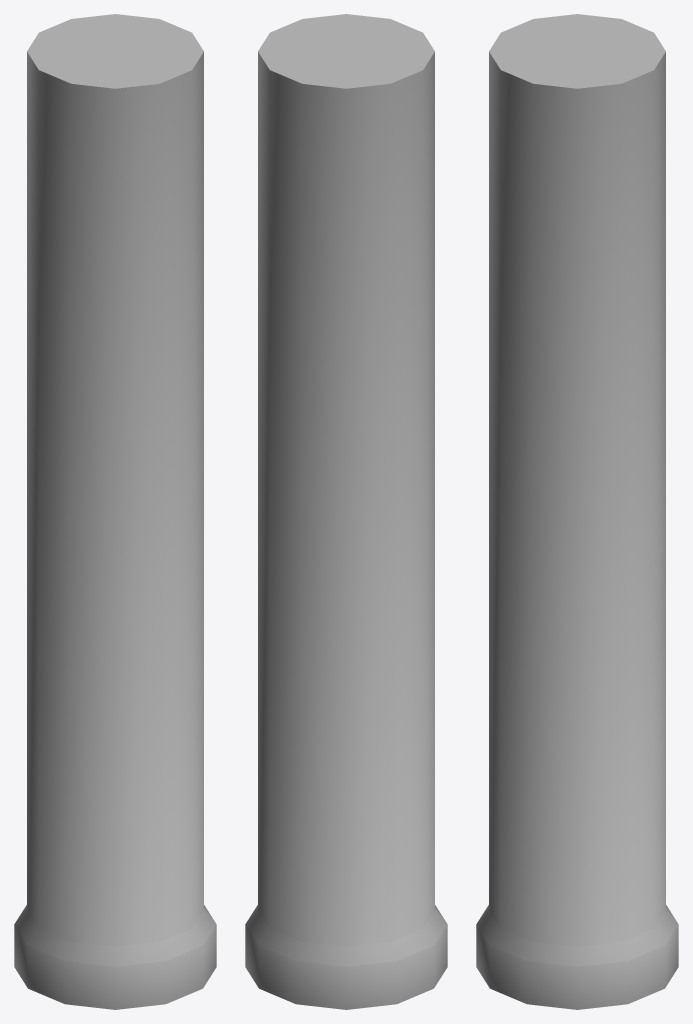
File: Columna.fbx
3 renders of one model, left to right at view 1: azimuth 30°, elevation 25°; view 2: azimuth 150°, elevation 25°; view 3: azimuth 270°, elevation 25°, orthographic.
Visible parts, largest first — view 1: Columna; view 2: Columna; view 3: Columna.
Part boxes in pixels (bbox=[...]): Columna: bbox=[14, 14, 216, 1009]; Columna: bbox=[245, 14, 447, 1009]; Columna: bbox=[476, 14, 678, 1009].
Bounding box in the file's own units: 60 × 300 × 60.
Materials: 1 (1 with a texture image).
